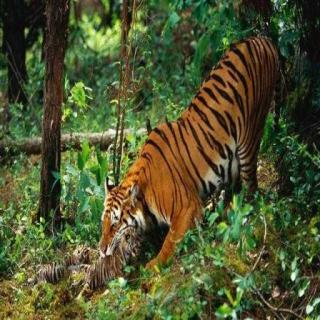Tiger: (69, 20, 295, 307)
